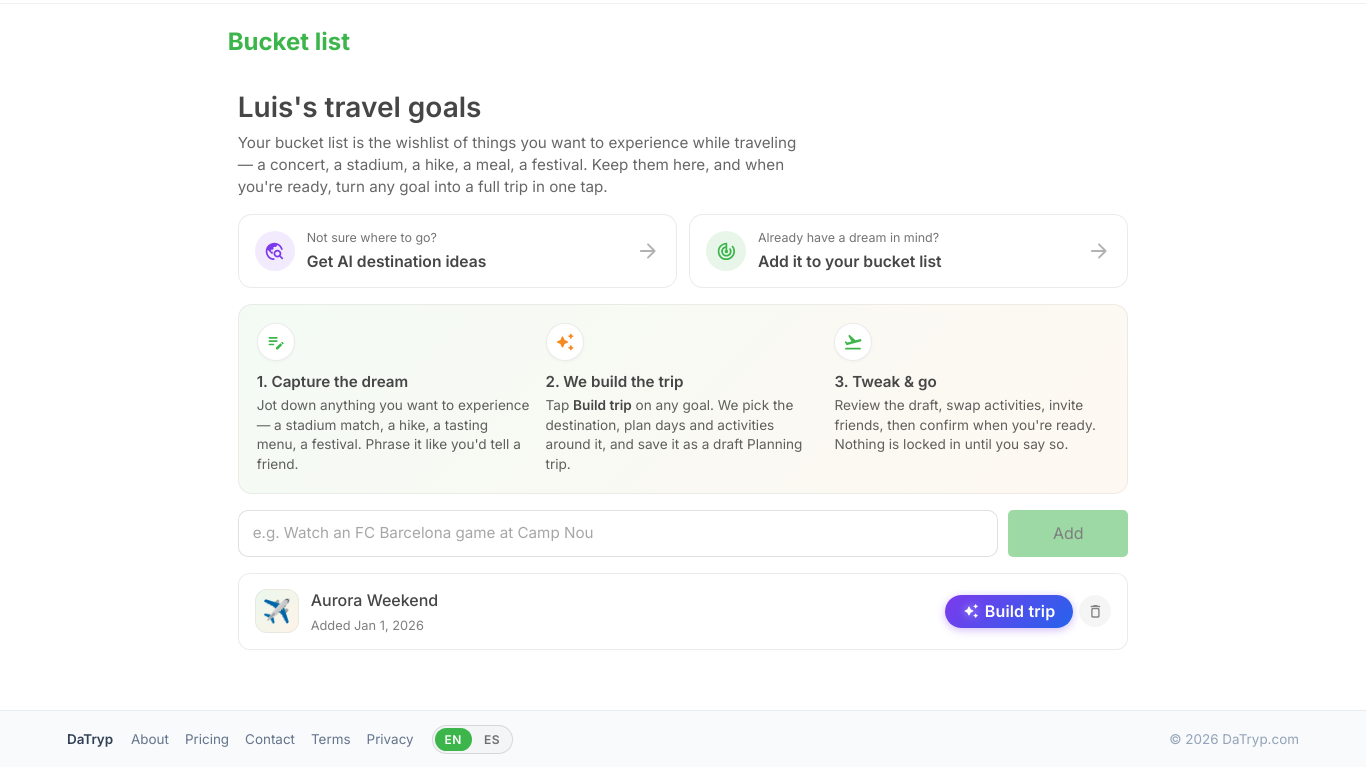
Test: BucketList › cancels the build wizard
(page scrolled)
Click the button with aria-label "Create trip from".
click(1009, 611)  # box [945,595,1073,628]
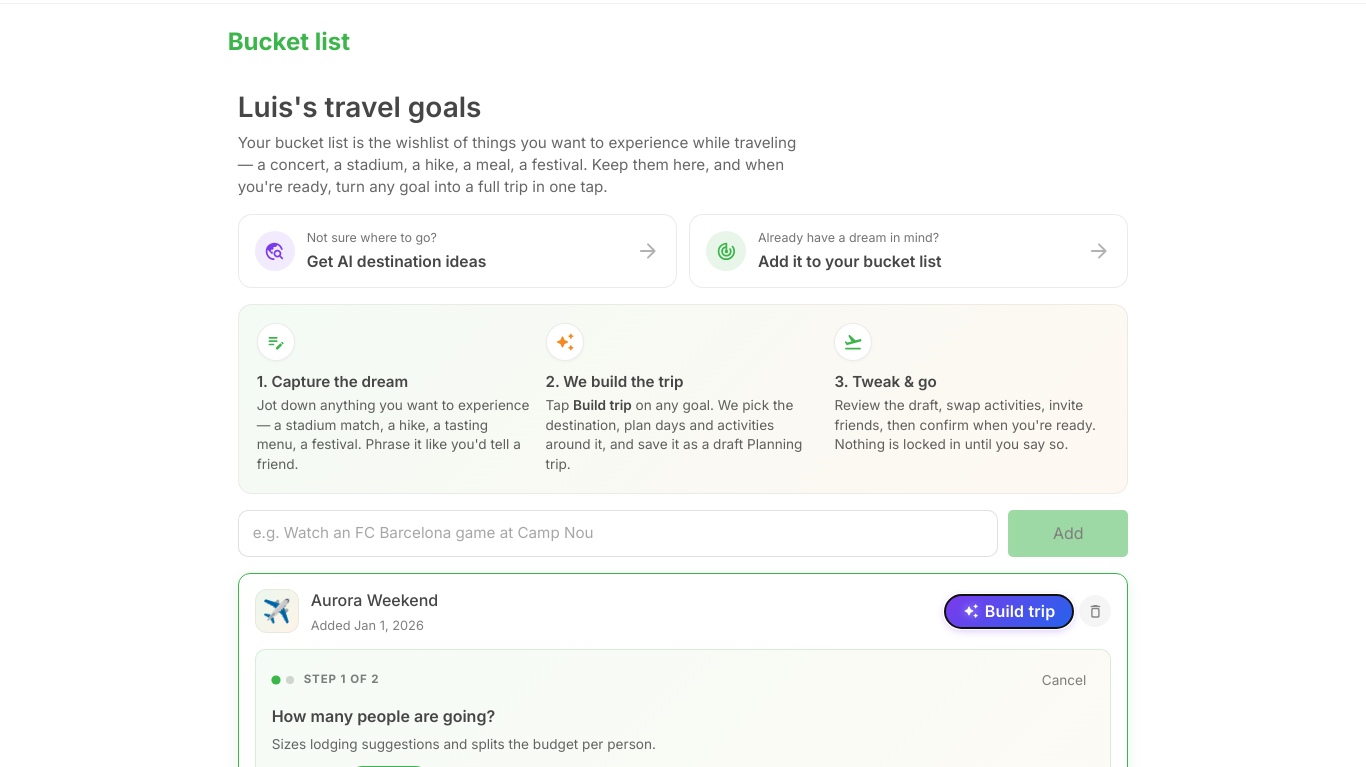
Click the button "Cancel".
click(1064, 680)  # box [1034,666,1094,694]
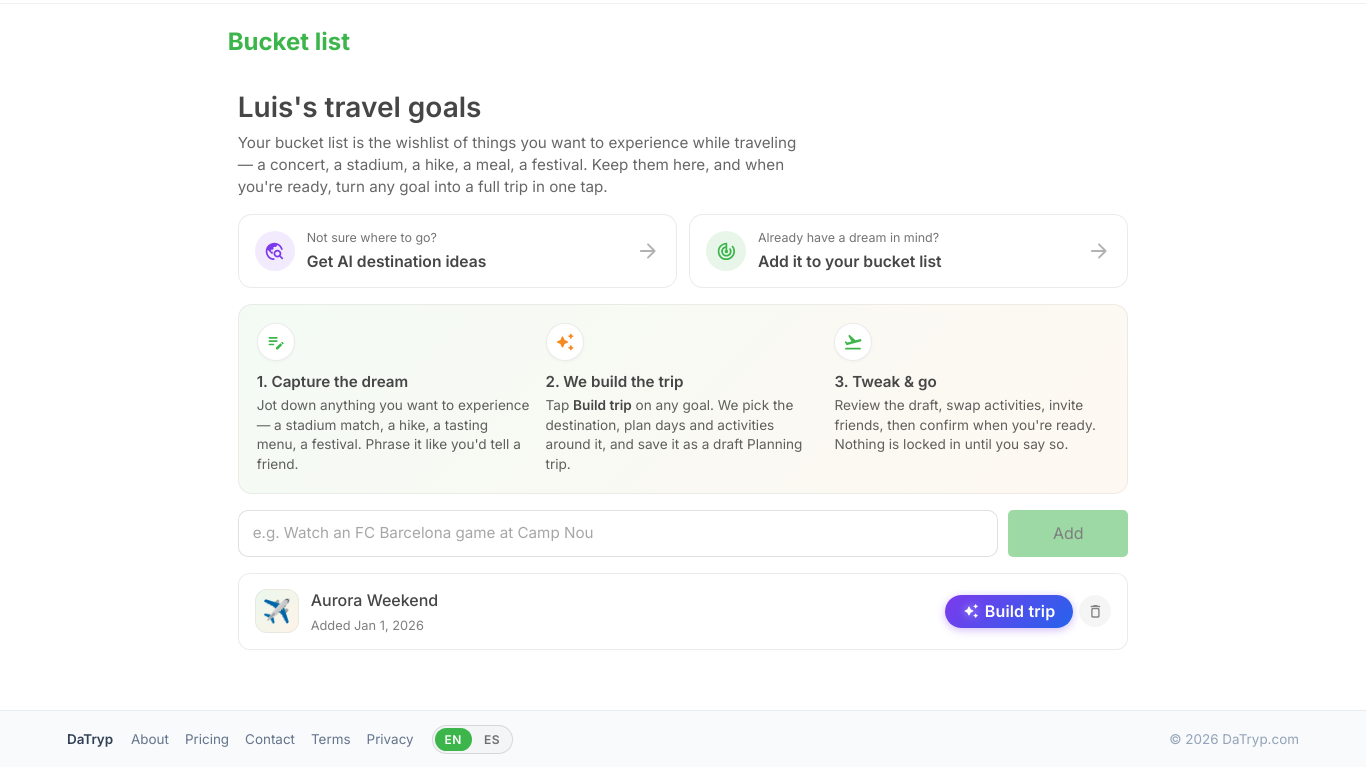
Check: the heading "How many people are going" is gone
